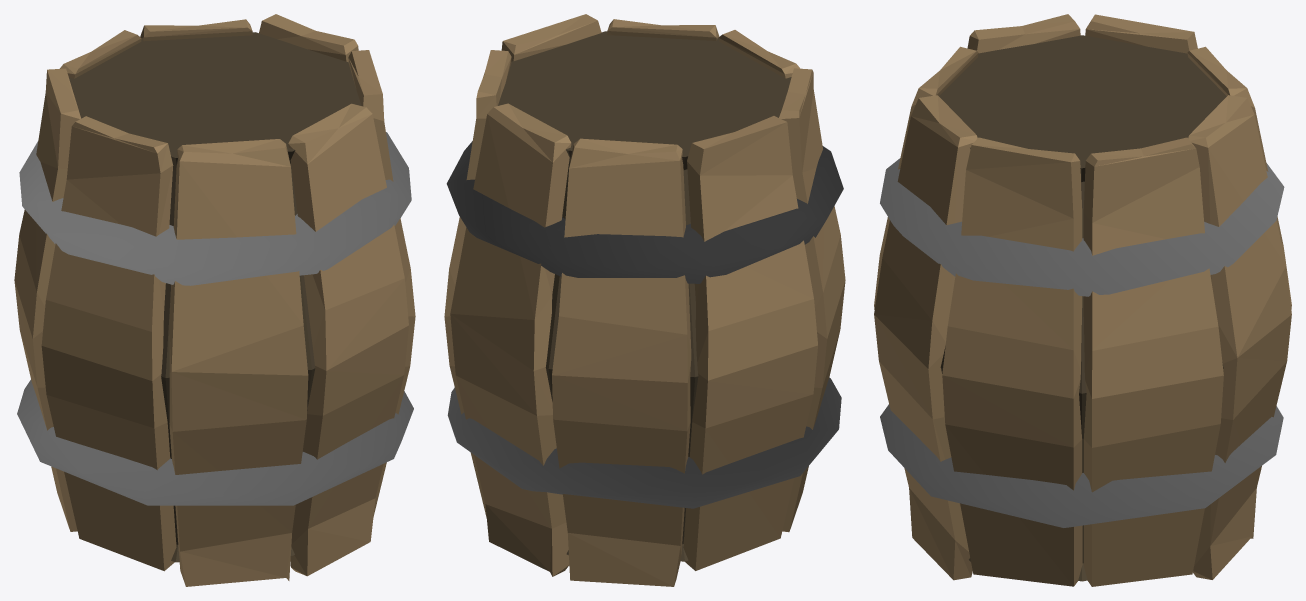
Rendered from barrel.glb.
3 views of the same model, side by side, from view 1: azimuth 30°, elevation 25°; view 2: azimuth 150°, elevation 25°; view 3: azimuth 270°, elevation 25° (orthographic). The views are drawn at different scales.
Parts seen in each view (by area): view 1: barrel, barrel_top; view 2: barrel, barrel_top; view 3: barrel, barrel_top.
Boxes of the visible parts, left/top/right/bottom form: barrel: left=14, top=14, right=415, bottom=586; barrel_top: left=69, top=32, right=361, bottom=157; barrel: left=444, top=14, right=845, bottom=586; barrel_top: left=498, top=31, right=791, bottom=156; barrel: left=874, top=14, right=1291, bottom=586; barrel_top: left=939, top=35, right=1226, bottom=168.
Bounding box in the file's own units: 1.92 × 2.26 × 1.91.
